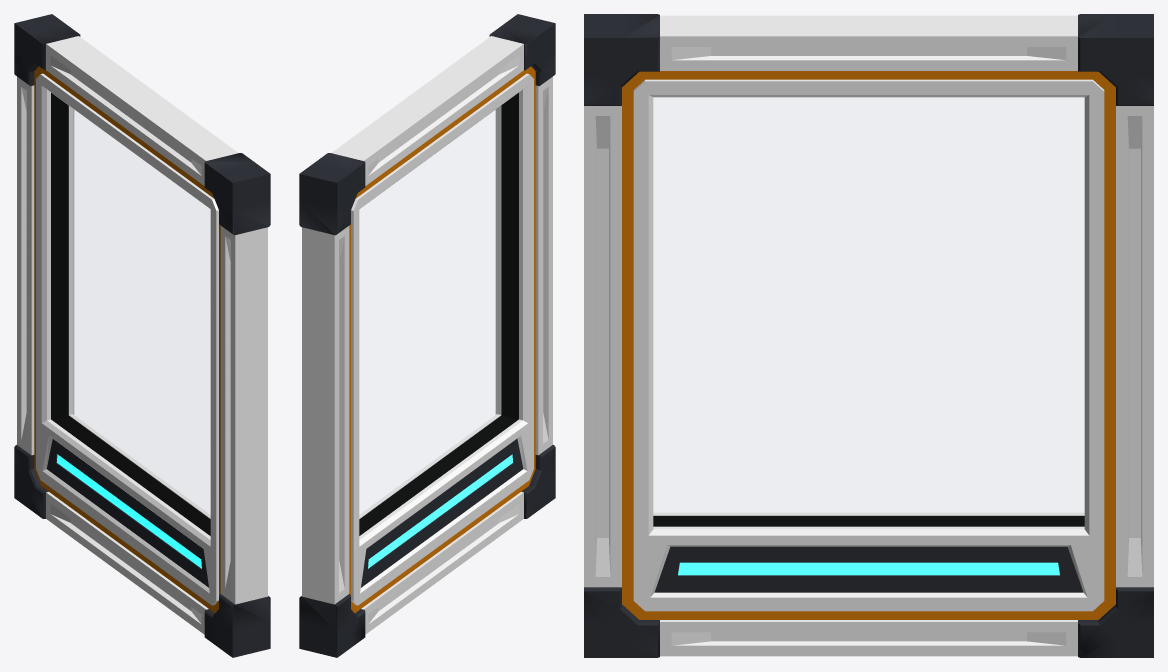
The model's file is wall_window.glb.
3 renders of one model, left to right at view 1: azimuth 30°, elevation 25°; view 2: azimuth 150°, elevation 25°; view 3: azimuth 270°, elevation 25°, orthographic. The views are drawn at different scales.
Parts seen in each view (by area): view 1: SM_WallPanel_Large_Window; view 2: SM_WallPanel_Large_Window; view 3: SM_WallPanel_Large_Window.
Boxes of the visible parts, bbox=[...] form: SM_WallPanel_Large_Window: bbox=[14, 14, 270, 657]; SM_WallPanel_Large_Window: bbox=[299, 14, 555, 657]; SM_WallPanel_Large_Window: bbox=[584, 14, 1153, 657].
Size of the model in its own units: 0.2 by 2.4 by 2.
